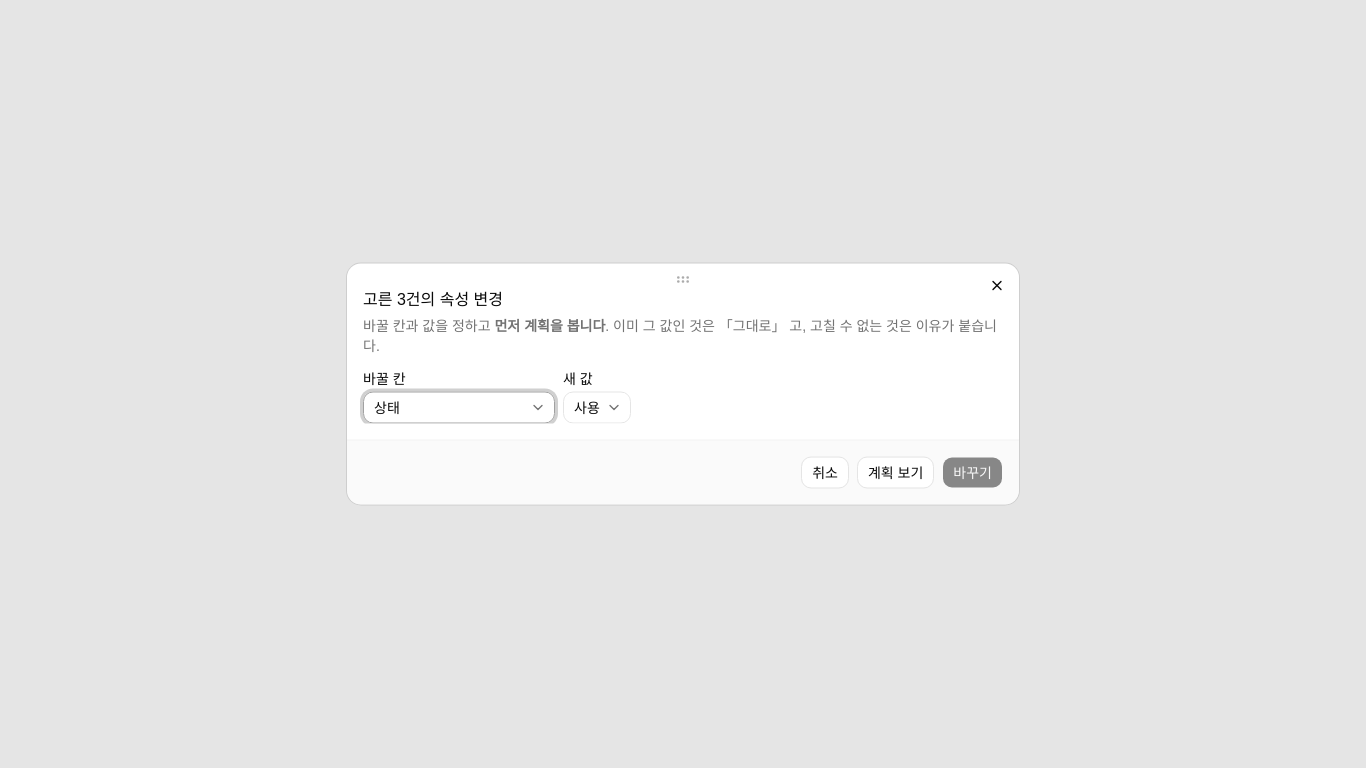
Test: 여럿 골라 속성 변경 › 계획을 먼저 보고, 바꿀 것이 있어야 적용할 수 있다
This screenshot has width=1366, height=768.
Expected: the button "바꾸기" is disabled, x1=942 y1=456 x2=1003 y2=488
Step 1. Click the button "계획 보기" → coordinates (896, 472), box x1=857 y1=456 x2=934 y2=488
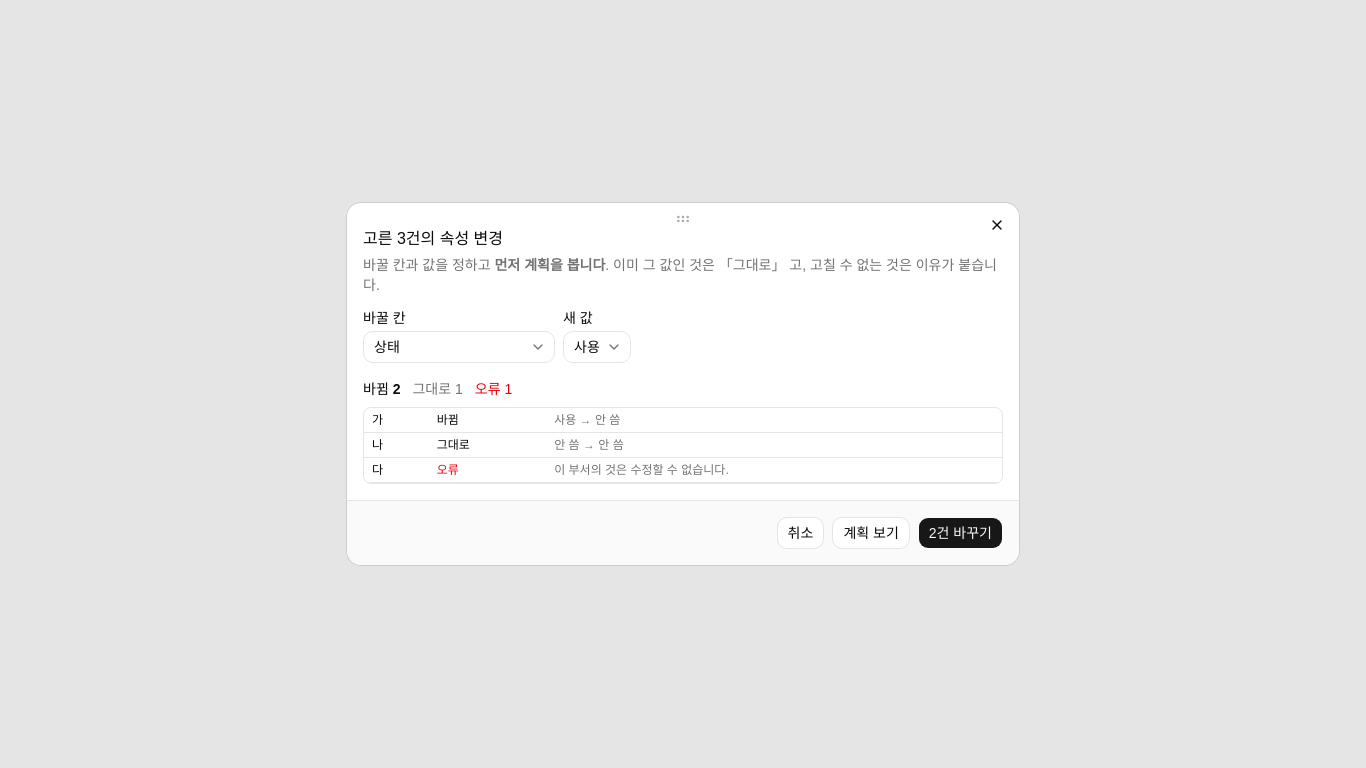
Expected: the button "2건 바꾸기" is enabled, x1=918 y1=517 x2=1003 y2=549
